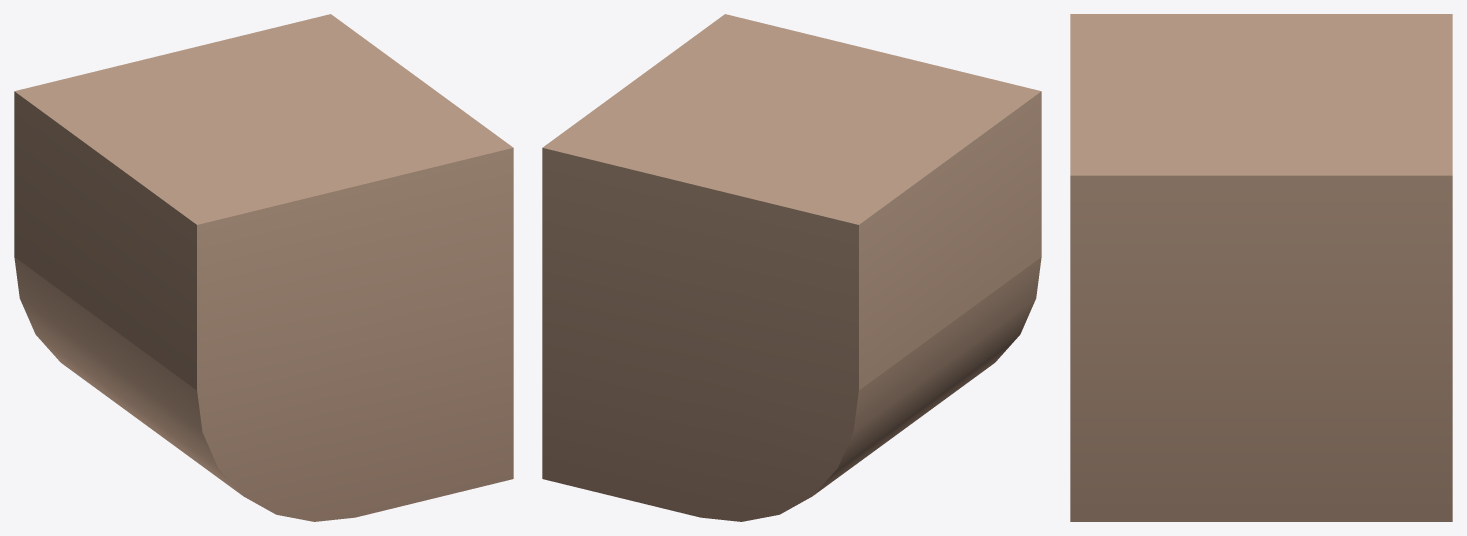
The model's file is corners-corner-large-b.glb.
3 views of the same model, side by side, from view 1: azimuth 30°, elevation 25°; view 2: azimuth 150°, elevation 25°; view 3: azimuth 270°, elevation 25° (orthographic). The views are drawn at different scales.
Parts seen in each view (by area): view 1: corners-corner-large-b; view 2: corners-corner-large-b; view 3: corners-corner-large-b.
Part boxes in pixels (bbox=[...]): corners-corner-large-b: bbox=[14, 14, 513, 521]; corners-corner-large-b: bbox=[542, 14, 1041, 521]; corners-corner-large-b: bbox=[1070, 14, 1452, 521].
Bounding box in the file's own units: 0.2 × 0.2 × 0.2.
